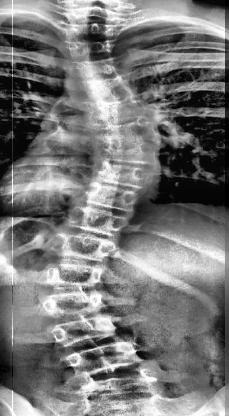Vertebrae: (65, 343, 153, 379), (73, 370, 169, 402), (48, 314, 124, 348), (50, 230, 121, 262), (42, 260, 110, 292), (71, 206, 129, 238), (97, 162, 154, 194), (44, 292, 106, 320), (104, 142, 162, 170), (92, 101, 150, 129), (72, 53, 126, 82), (86, 183, 142, 209), (100, 121, 156, 145), (84, 79, 132, 105), (68, 42, 122, 62)
